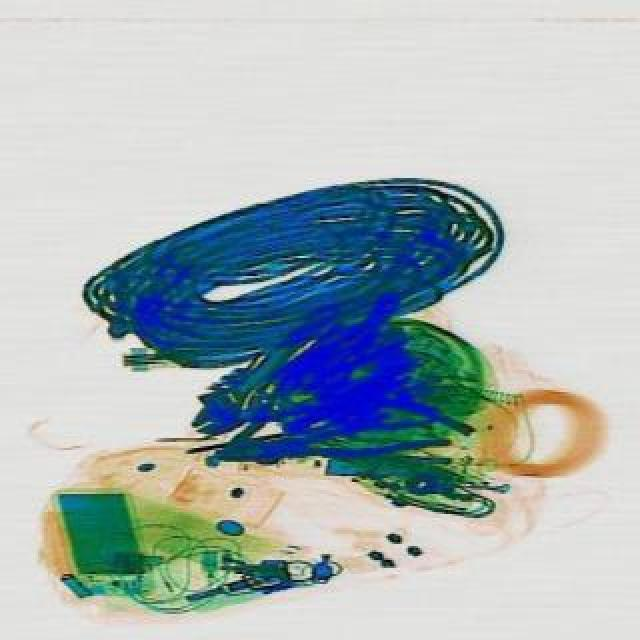scissors: (174, 284, 352, 448)
wrench: (210, 410, 448, 474)
